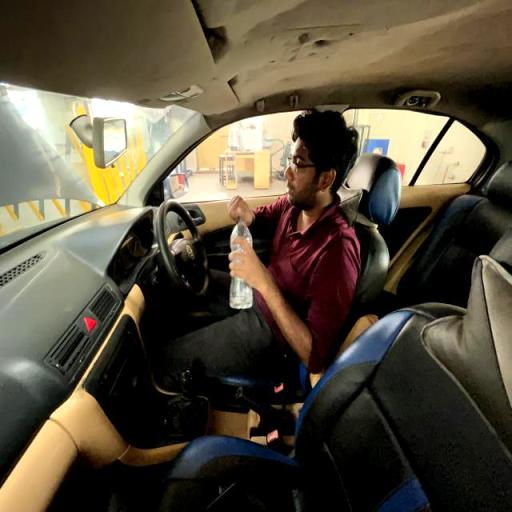Drinking: (198, 108, 361, 369)
